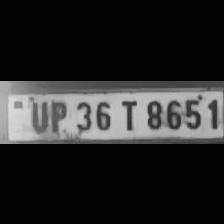1: (204, 96, 222, 128)
3: (71, 97, 93, 131)
5: (182, 95, 202, 129)
6: (92, 98, 114, 130), (163, 96, 181, 128)
8: (142, 96, 164, 130)
P: (48, 97, 68, 131)
T: (116, 96, 140, 130)
U: (25, 96, 49, 132)
